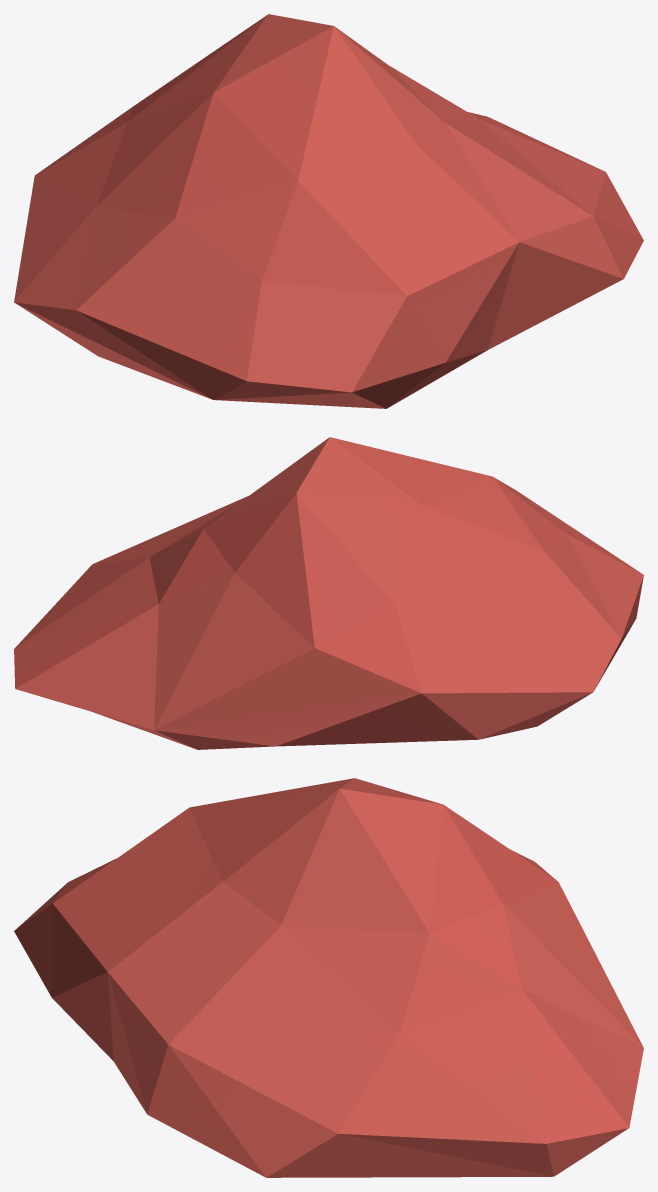
The model's file is redrock5.fbx.
3 views of the same model, one above another, from view 1: azimuth 30°, elevation 25°; view 2: azimuth 150°, elevation 25°; view 3: azimuth 270°, elevation 25° (orthographic). The views are drawn at different scales.
Parts seen in each view (by area): view 1: rock.017; view 2: rock.017; view 3: rock.017.
Boxes of the visible parts, x1,y1,x2,y2 form: rock.017: (14,14,643,408); rock.017: (14,437,643,749); rock.017: (14,778,643,1177).
Bounding box in the file's own units: 213 × 102 × 198.
